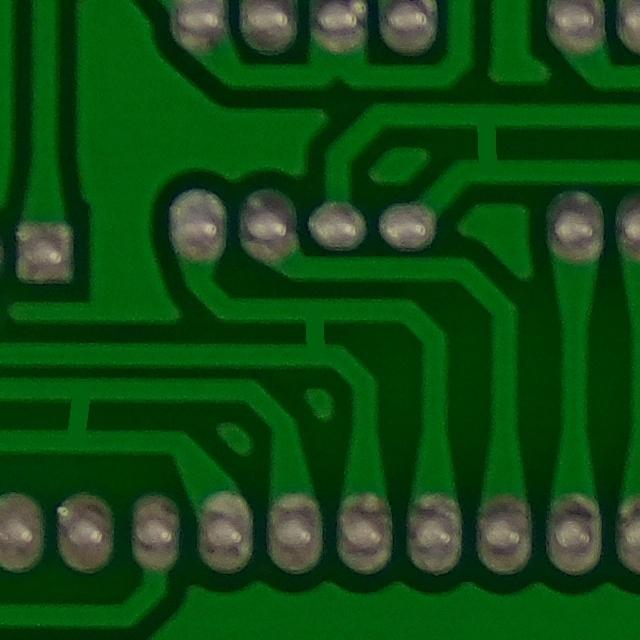short: (264, 286, 371, 379), (442, 91, 542, 189), (28, 367, 131, 460)
